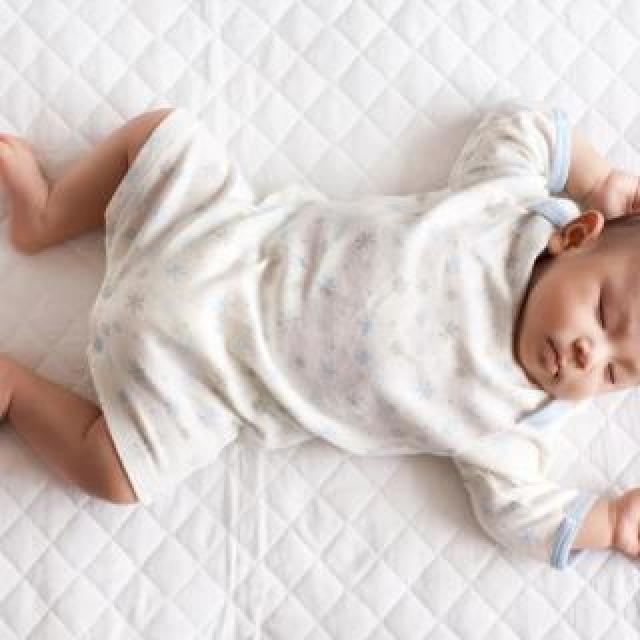baby: (0, 111, 638, 573)
